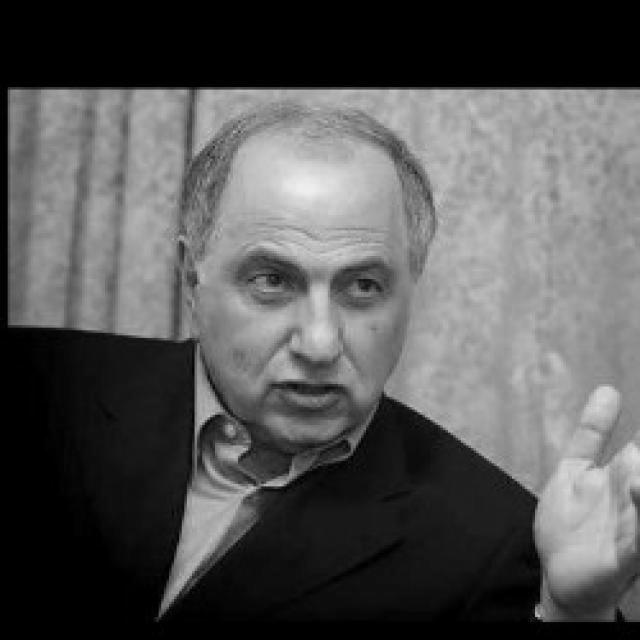real: (193, 121, 414, 445), (240, 260, 387, 314)
